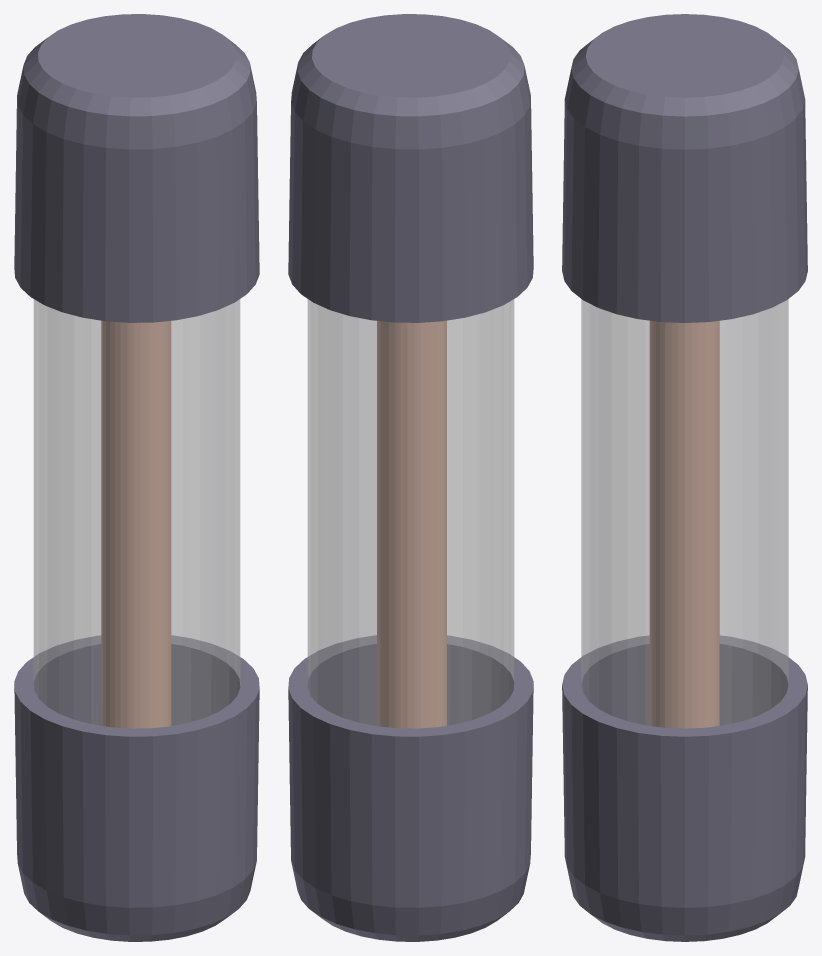
The model's file is fusible.fbx.
3 renders of one model, left to right at view 1: azimuth 30°, elevation 25°; view 2: azimuth 150°, elevation 25°; view 3: azimuth 270°, elevation 25°, orthographic.
Visible parts, largest first — view 1: Cylinder; view 2: Cylinder; view 3: Cylinder.
Boxes of the visible parts, x1=… form: Cylinder: x1=14, y1=14, x2=259, y2=941; Cylinder: x1=288, y1=14, x2=533, y2=941; Cylinder: x1=562, y1=14, x2=807, y2=941.
Bounding box in the file's own units: 200 × 758 × 200.
